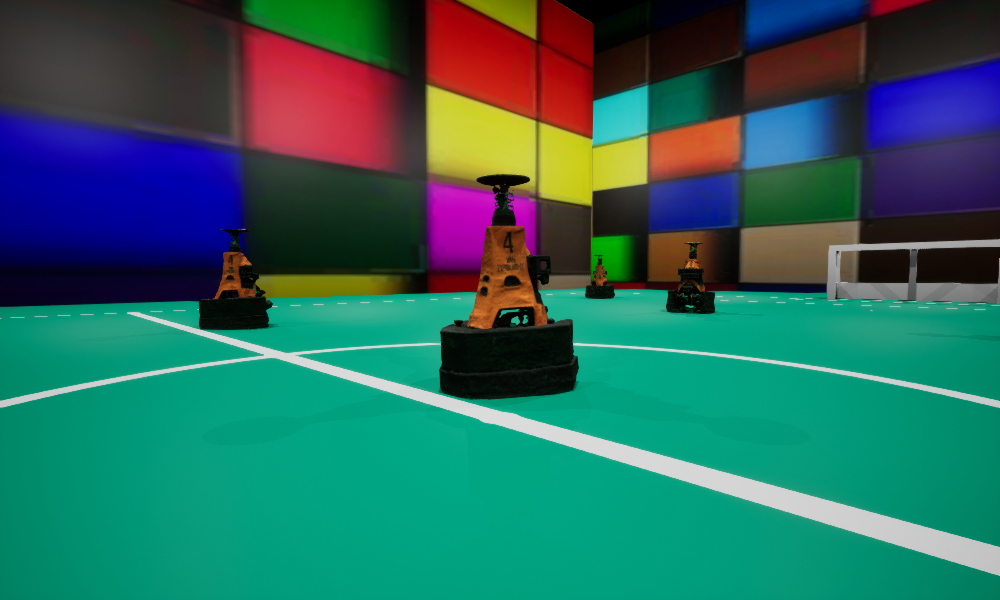o: (439, 174, 578, 399), (199, 229, 272, 329), (666, 242, 714, 312), (585, 255, 614, 298)
